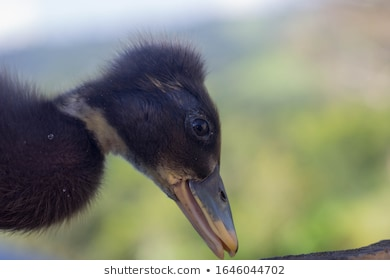duck: (1, 28, 248, 260)
